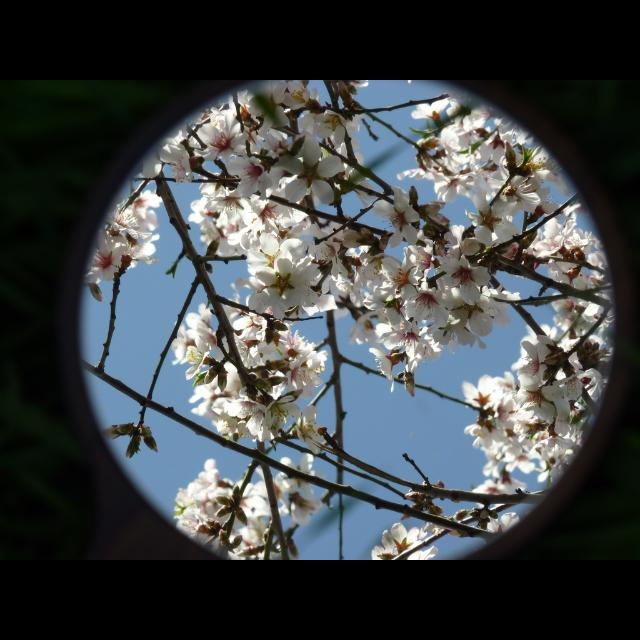Flower: (86, 80, 616, 560), (436, 250, 490, 306)
